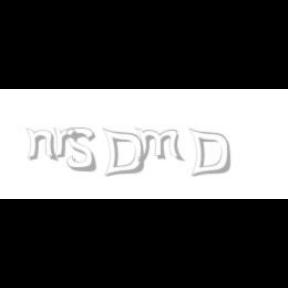D: (101, 128, 144, 178), (188, 128, 230, 178)
S: (66, 128, 97, 172)
m: (134, 128, 186, 162)
n: (25, 128, 59, 162)
r: (52, 128, 79, 158)
